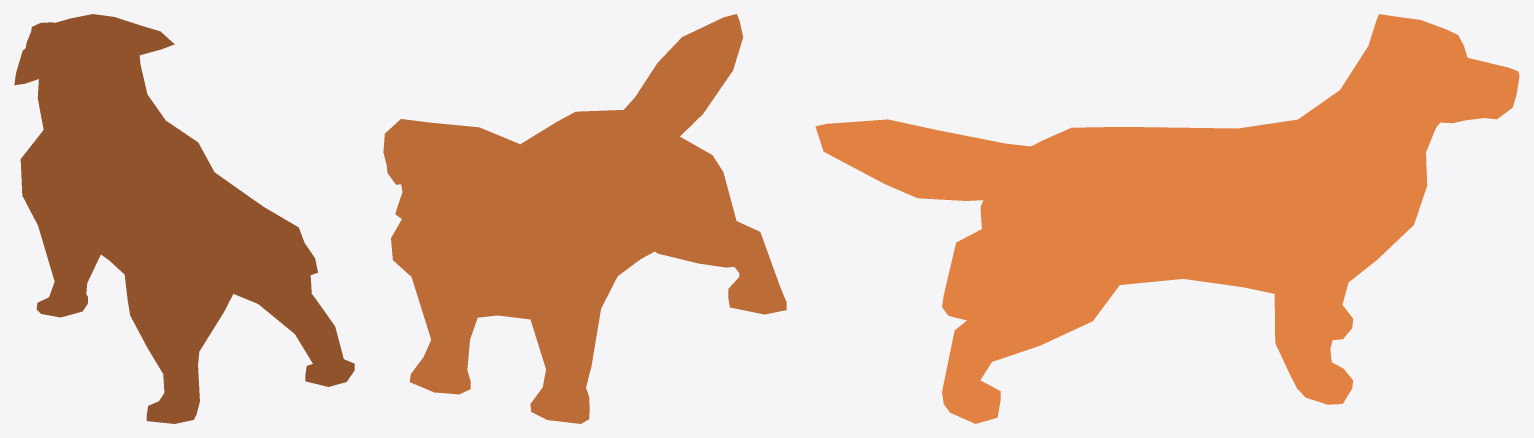
File: goldenRetriever.glb
3 views of the same model, side by side, from view 1: azimuth 30°, elevation 25°; view 2: azimuth 150°, elevation 25°; view 3: azimuth 270°, elevation 25° (orthographic). The views are drawn at different scales.
Visible parts, largest first — view 1: goldenRetriever; view 2: goldenRetriever; view 3: goldenRetriever.
Boxes of the visible parts, x1,y1,x2,y2 form: goldenRetriever: (14, 14, 354, 423); goldenRetriever: (383, 14, 786, 423); goldenRetriever: (815, 14, 1519, 423).
Bounding box in the file's own units: 0.6717 × 0.7657 × 1.52.
